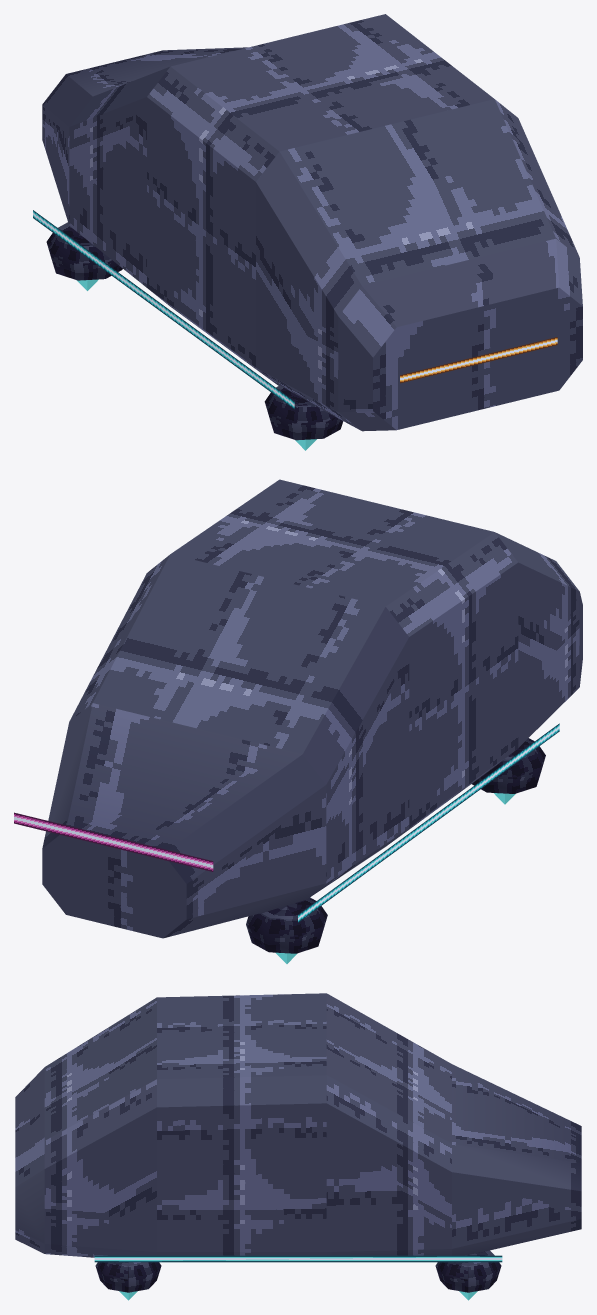
The model's file is cytech.hovercar__van.glb.
The picture shows the model from 3 angles, top to bottom: view 1: azimuth 30°, elevation 25°; view 2: azimuth 150°, elevation 25°; view 3: azimuth 270°, elevation 25°; orthographic projection. The views are drawn at different scales.
Visible parts, largest first — view 1: kit_hull, kit_pods, kit_card_lights; view 2: kit_hull, kit_pods, kit_card_lights; view 3: kit_hull, kit_pods, kit_card_lights.
Part boxes in pixels (box(x1,y1,x2,y2)): kit_hull: box(42, 14, 582, 431); kit_pods: box(46, 222, 343, 450); kit_card_lights: box(33, 210, 557, 409); kit_hull: box(42, 479, 582, 938); kit_pods: box(246, 738, 545, 963); kit_card_lights: box(14, 723, 559, 922); kit_hull: box(15, 993, 581, 1257); kit_pods: box(95, 1250, 501, 1300); kit_card_lights: box(94, 1255, 502, 1262).
Bounding box in the file's own units: 2.08 × 2.14 × 4.82.
3 materials, 3 textured.
